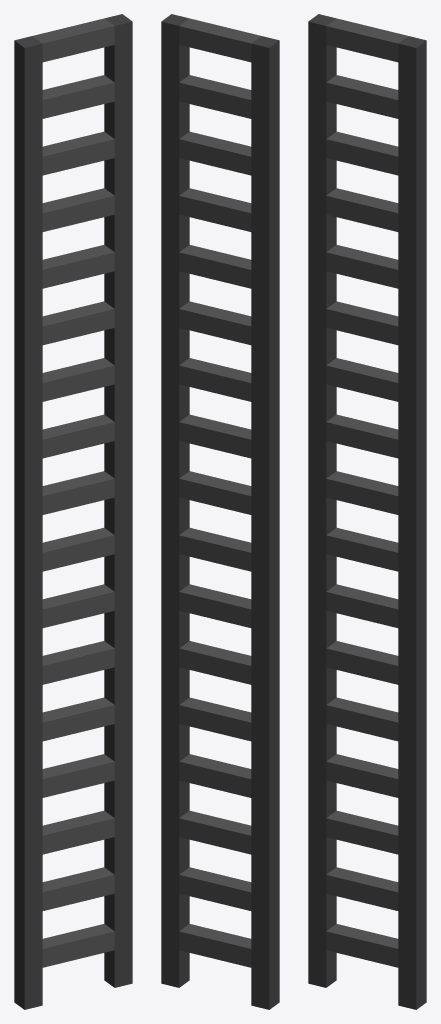
The model's file is ladder.obj.
3 views of the same model, side by side, from view 1: azimuth 30°, elevation 25°; view 2: azimuth 150°, elevation 25°; view 3: azimuth 330°, elevation 25° (orthographic).
Bounding box in the file's own units: 6 × 51 × 1.
Materials: 1 (1 with a texture image).
